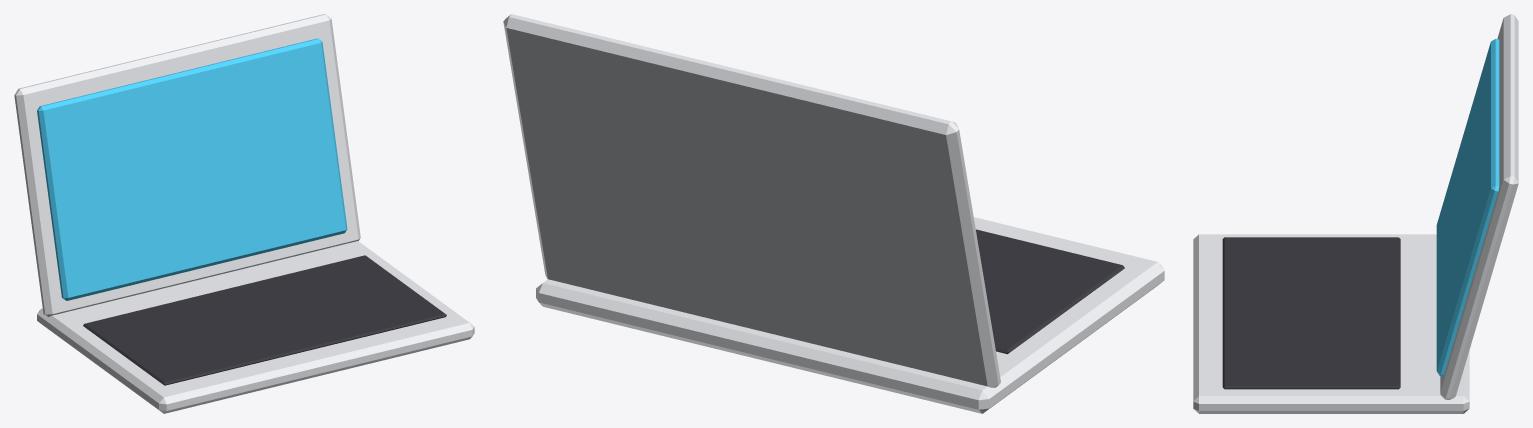
File: Laptop.fbx
The picture shows the model from 3 angles, left to right: view 1: azimuth 30°, elevation 25°; view 2: azimuth 150°, elevation 25°; view 3: azimuth 270°, elevation 25°; orthographic projection. The views are drawn at different scales.
Parts seen in each view (by area): view 1: Laptop; view 2: Laptop; view 3: Laptop.
Part boxes in pixels (bbox=[...]): Laptop: bbox=[14, 14, 474, 413]; Laptop: bbox=[503, 14, 1164, 413]; Laptop: bbox=[1193, 14, 1518, 413].
Size of the model in its own units: 2 by 1.33 by 1.65.
1 material, 1 textured.
